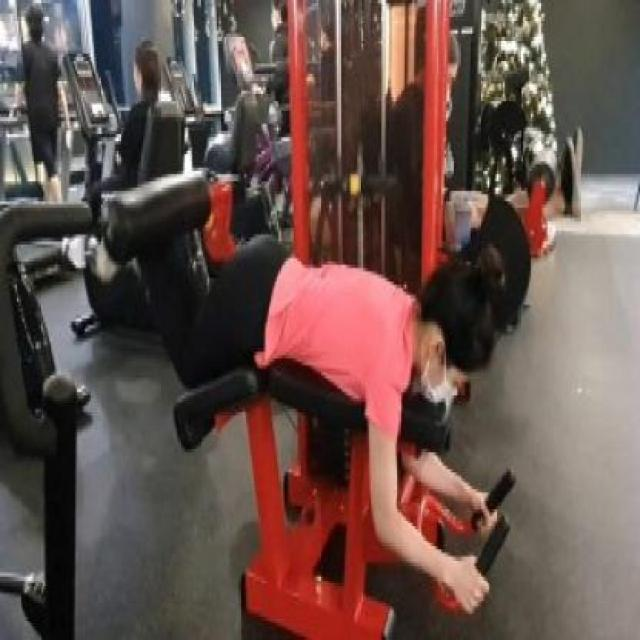reg curl machine: (105, 0, 520, 640)
